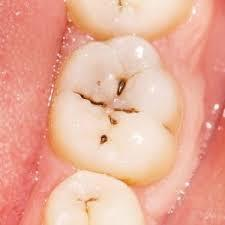Caries: (73, 71, 141, 148), (78, 192, 101, 213), (157, 119, 177, 140), (110, 0, 131, 13)
